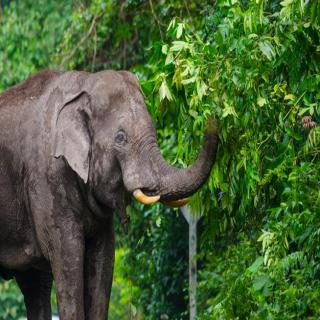Elephant: (0, 67, 223, 320)
